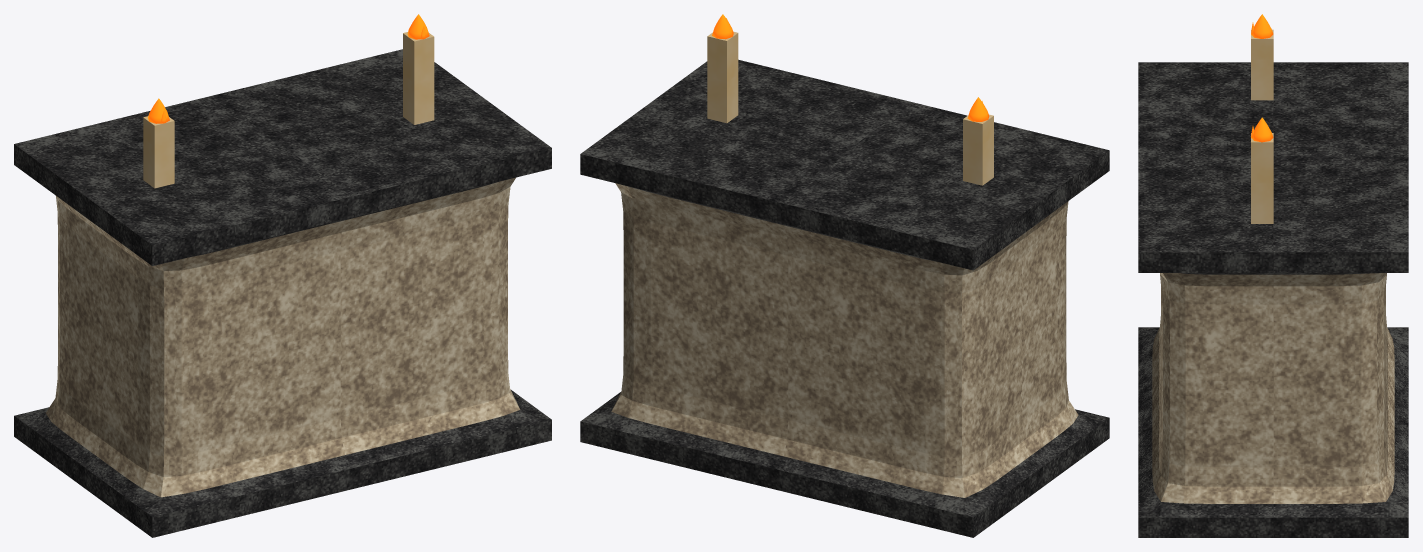
File: altar.glb
3 renders of one model, left to right at view 1: azimuth 30°, elevation 25°; view 2: azimuth 150°, elevation 25°; view 3: azimuth 270°, elevation 25°, orthographic. The views are drawn at different scales.
Visible parts, largest first — view 1: crypt_altar; view 2: crypt_altar; view 3: crypt_altar.
Boxes of the visible parts, x1,y1,x2,y2 form: crypt_altar: (14, 14, 551, 537); crypt_altar: (580, 14, 1109, 537); crypt_altar: (1138, 14, 1408, 537).
Size of the model in its own units: 1.25 by 1.19 by 0.75.
2 materials, 1 textured.
